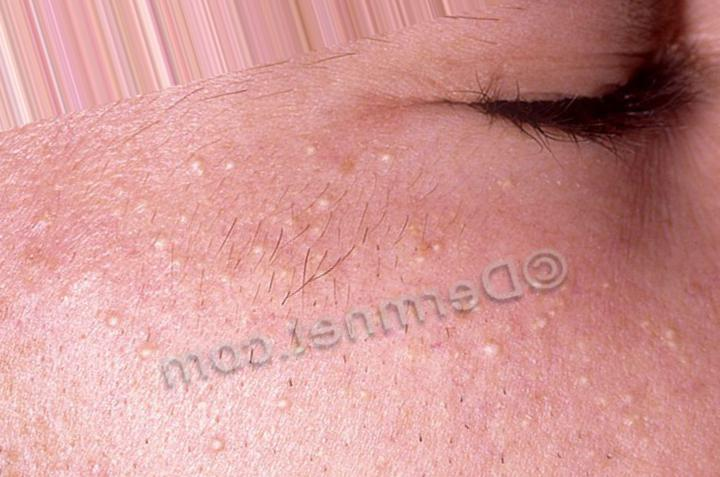Acne: (303, 233, 357, 304), (192, 149, 273, 186), (95, 182, 158, 228), (140, 236, 201, 282), (249, 245, 302, 292), (646, 322, 707, 355), (263, 396, 334, 422), (376, 139, 415, 181), (618, 389, 648, 440), (569, 370, 613, 404), (89, 308, 151, 332), (483, 325, 514, 371), (193, 422, 237, 453), (485, 173, 535, 198), (412, 248, 458, 275), (526, 308, 580, 331), (129, 340, 166, 365), (292, 148, 335, 166), (312, 198, 343, 217)
